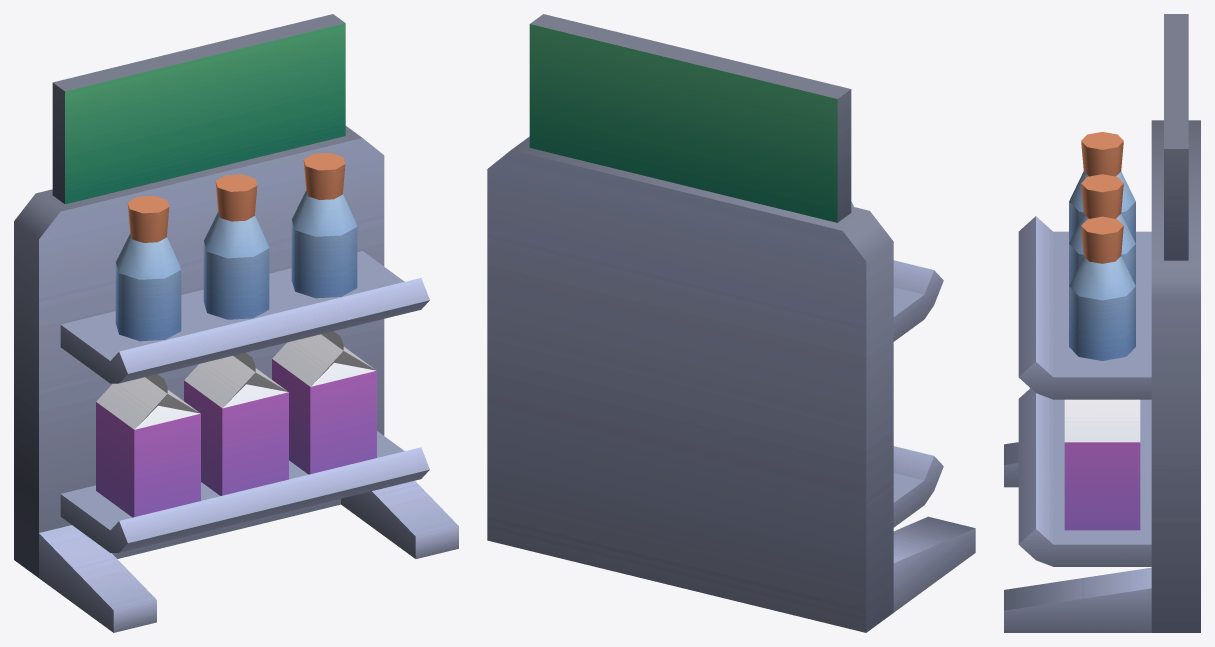
Rendered from shelf-end.glb.
3 renders of one model, left to right at view 1: azimuth 30°, elevation 25°; view 2: azimuth 150°, elevation 25°; view 3: azimuth 270°, elevation 25°, orthographic. The views are drawn at different scales.
Parts seen in each view (by area): view 1: shelf-end, Group, carton (×3), bottle (×3); view 2: shelf-end, Group; view 3: shelf-end, bottle (×3), carton, Group.
Boxes of the visible parts, x1=… form: shelf-end: x1=14, y1=126, x2=458, y2=632; Group: x1=52, y1=14, x2=345, y2=204; carton (×3): x1=96, y1=331, x2=376, y2=517; bottle (×3): x1=115, y1=153, x2=357, y2=341; shelf-end: x1=487, y1=136, x2=975, y2=632; Group: x1=529, y1=14, x2=851, y2=222; shelf-end: x1=1004, y1=120, x2=1200, y2=632; bottle (×3): x1=1069, y1=132, x2=1135, y2=360; carton: x1=1064, y1=399, x2=1140, y2=530; Group: x1=1164, y1=14, x2=1188, y2=260.
Bounding box in the file's own units: 0.8 × 1.05 × 0.4.
1 material, 1 textured.
